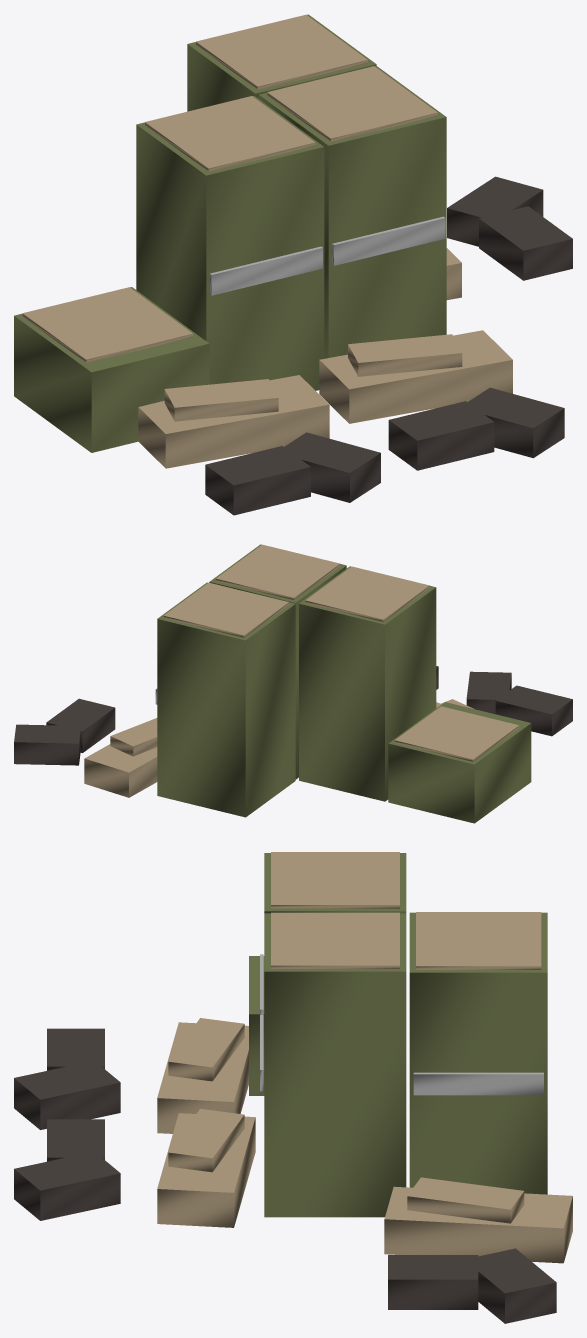
File: SM_HescoRemateEspejo_v2_Escalonado_e1_Danado_LOD1.fbx
3 renders of one model, top to bottom at view 1: azimuth 30°, elevation 25°; view 2: azimuth 150°, elevation 25°; view 3: azimuth 270°, elevation 25°, orthographic. The views are drawn at different scales.
Parts seen in each view (by area): view 1: SM_hesco_piezas_v29_LOD1; view 2: SM_hesco_piezas_v29_LOD1; view 3: SM_hesco_piezas_v29_LOD1.
Boxes of the visible parts, <box> form: SM_hesco_piezas_v29_LOD1: <box>14,14,572,515</box>; SM_hesco_piezas_v29_LOD1: <box>14,544,572,823</box>; SM_hesco_piezas_v29_LOD1: <box>14,852,572,1323</box>.
Bounding box in the file's own units: 5.25 × 2.13 × 4.33.
